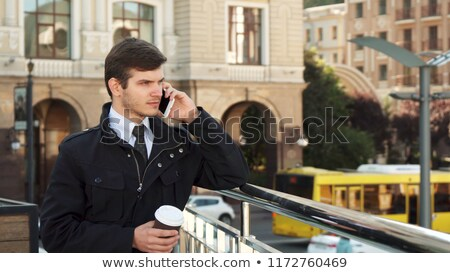phone: (154, 82, 185, 120)
talk: (132, 75, 195, 127)
